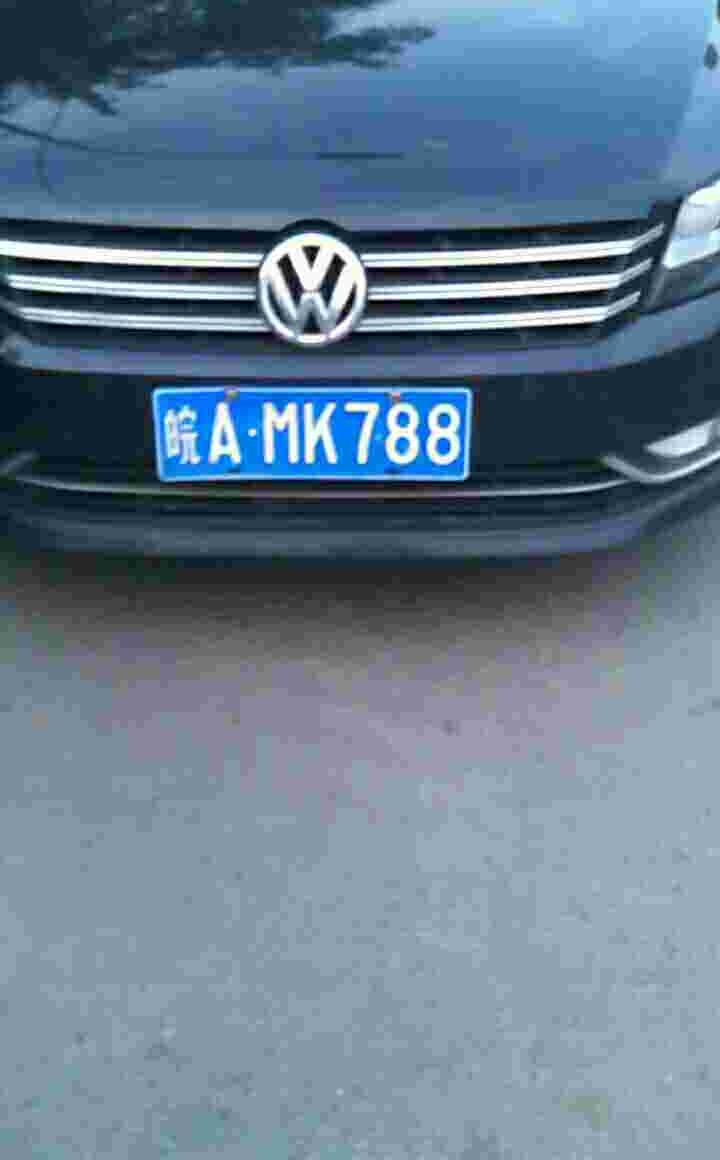license_plate: (150, 383, 473, 485)
